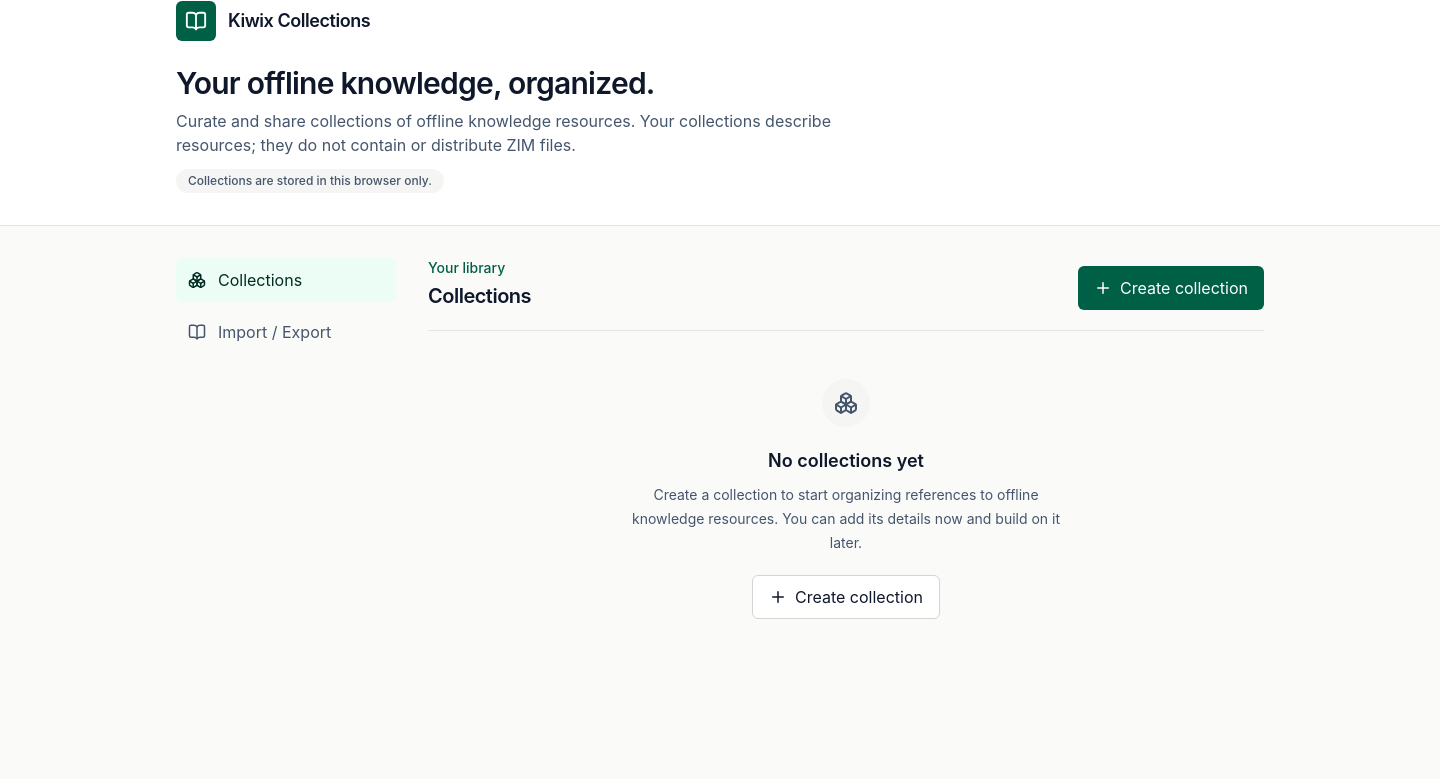
it: collections › opens a collection and adds a resource by hand
Click the button "Create collection" in the row of "Your library": (1171, 288) [1078, 266, 1264, 310]
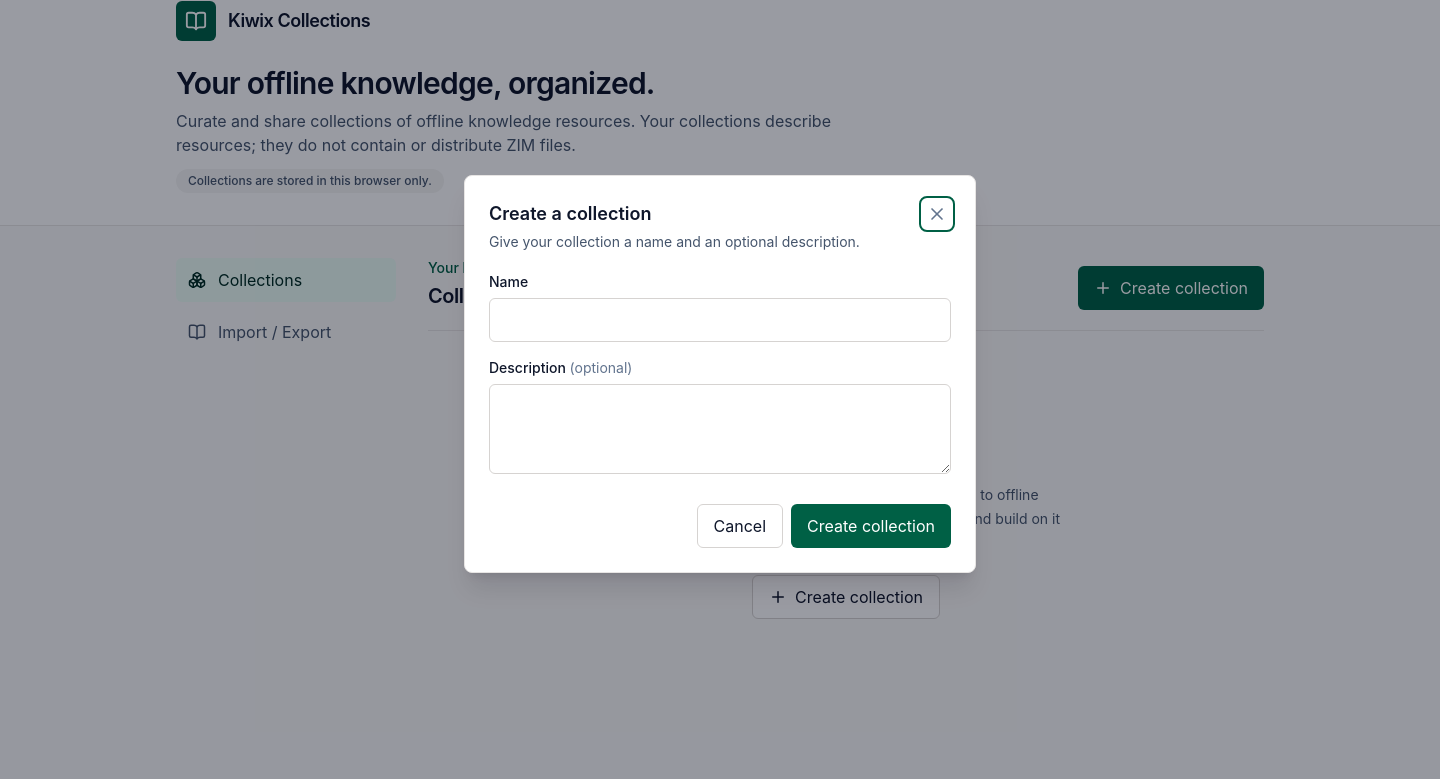
In the field labelled "Name": (720, 320) [489, 298, 951, 342], type "World history"
Click the button "Create collection": (871, 526) [791, 504, 951, 548]
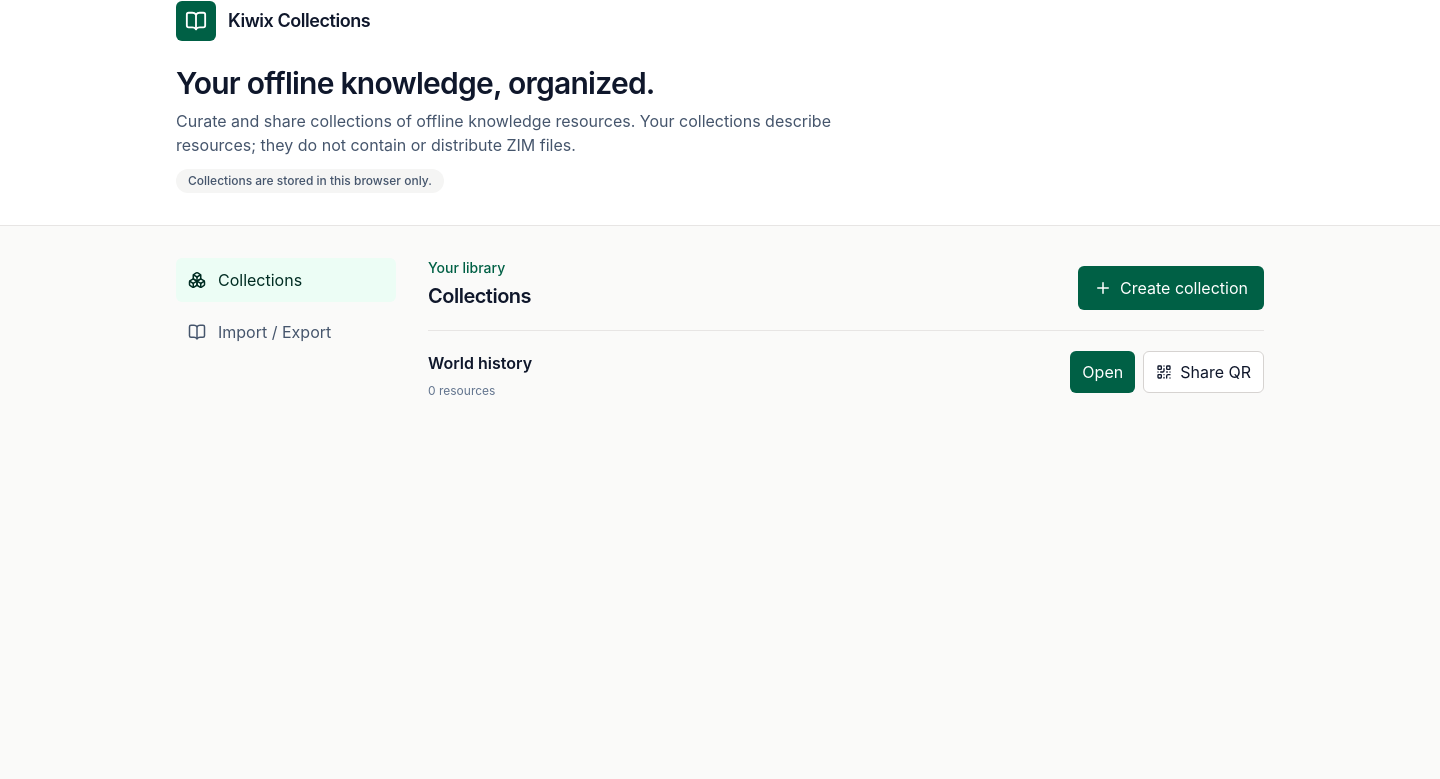
Expected: the heading "World history" is shown, [428, 351, 532, 375]
Click the button "Open": (1103, 372) [1070, 351, 1135, 393]
(page scrolled)
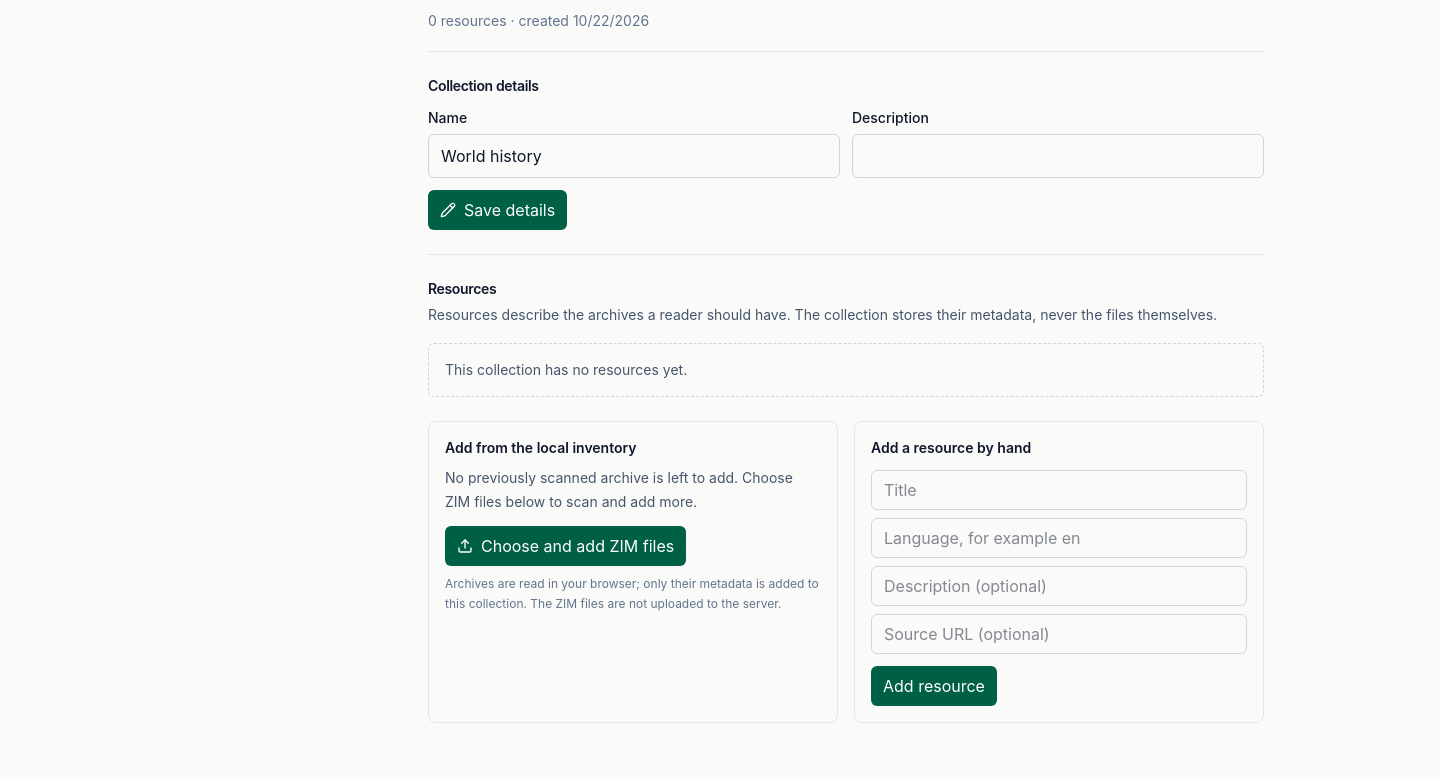
In the field named "Resource title": (1059, 490) [871, 470, 1247, 510], type "Wikipedia"
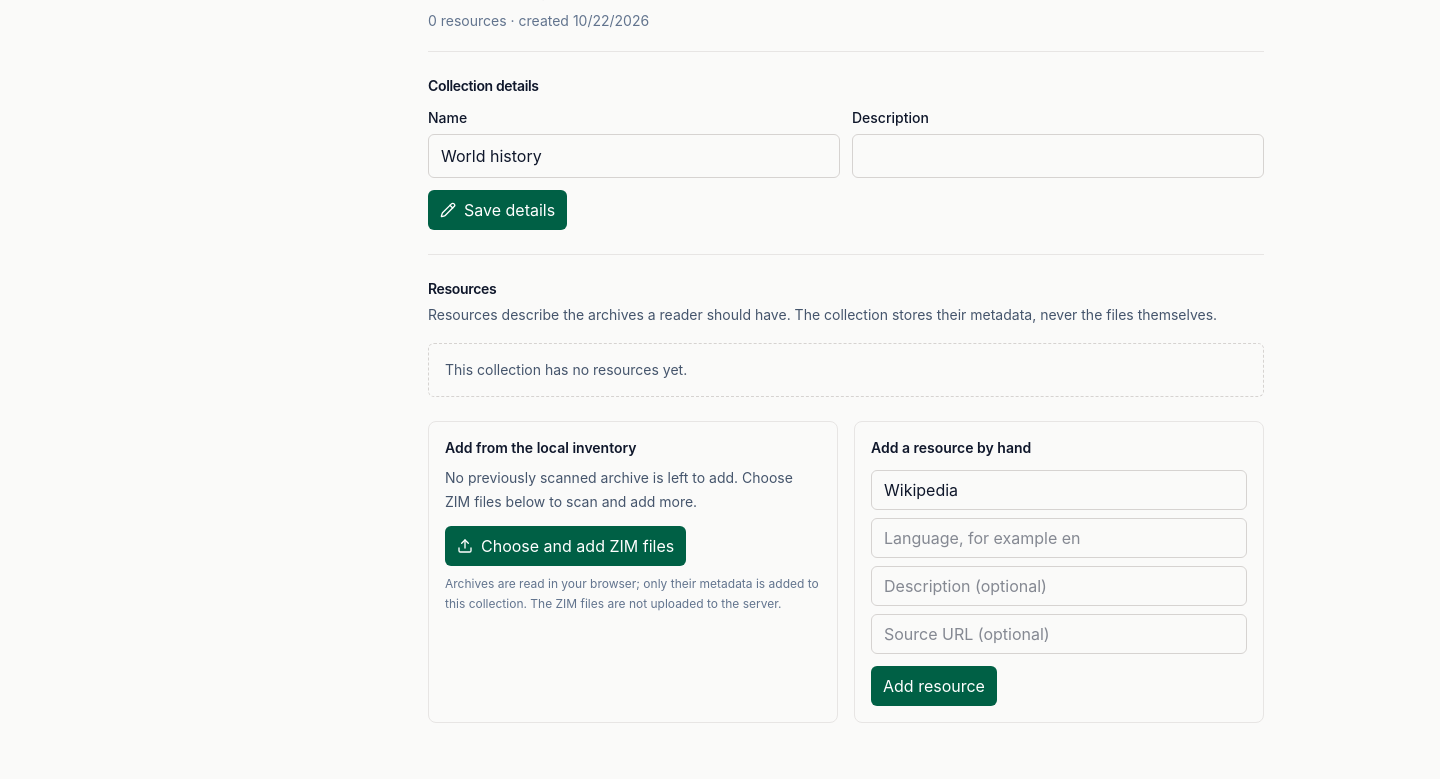
In the field named "Resource language": (1059, 538) [871, 518, 1247, 558], type "en"
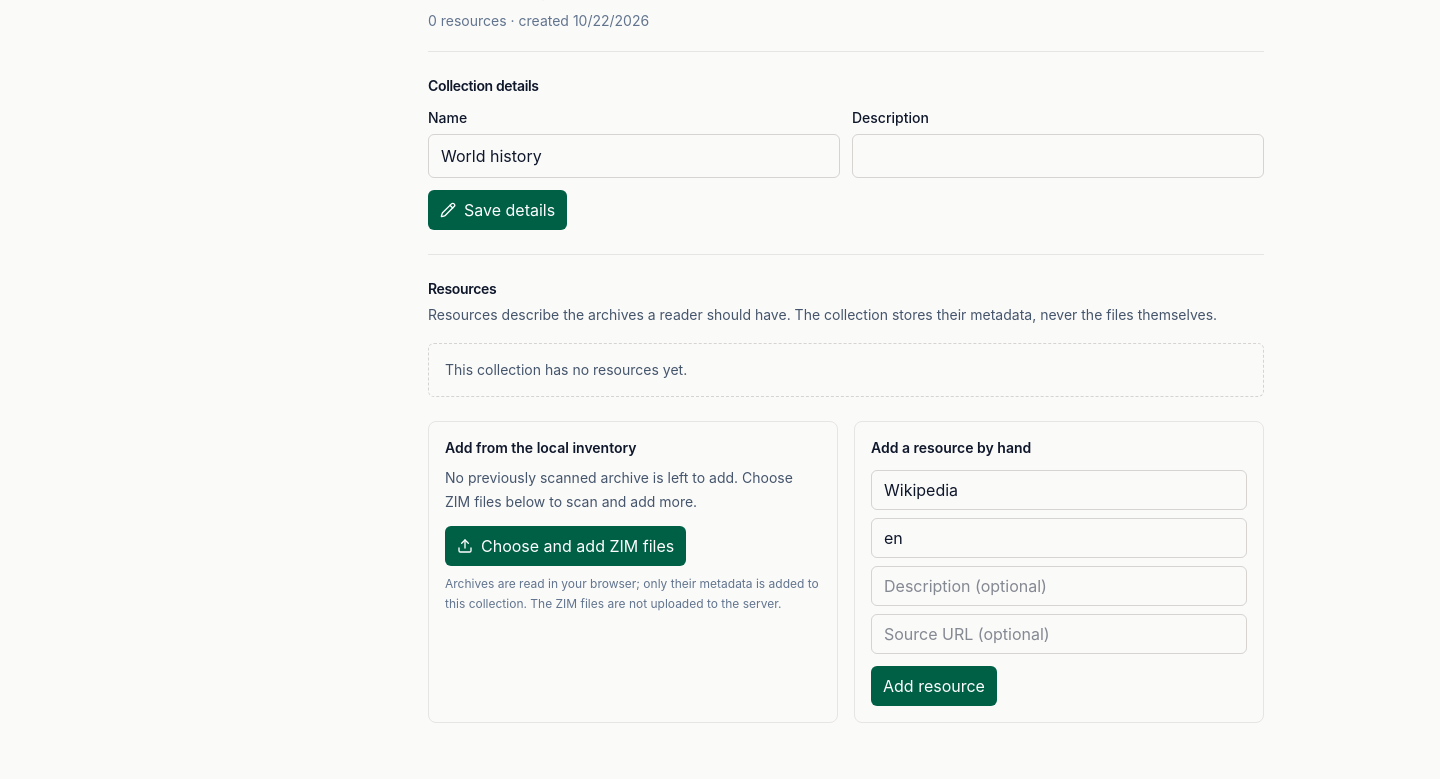
Click the button "Add resource": (934, 686) [871, 666, 997, 706]
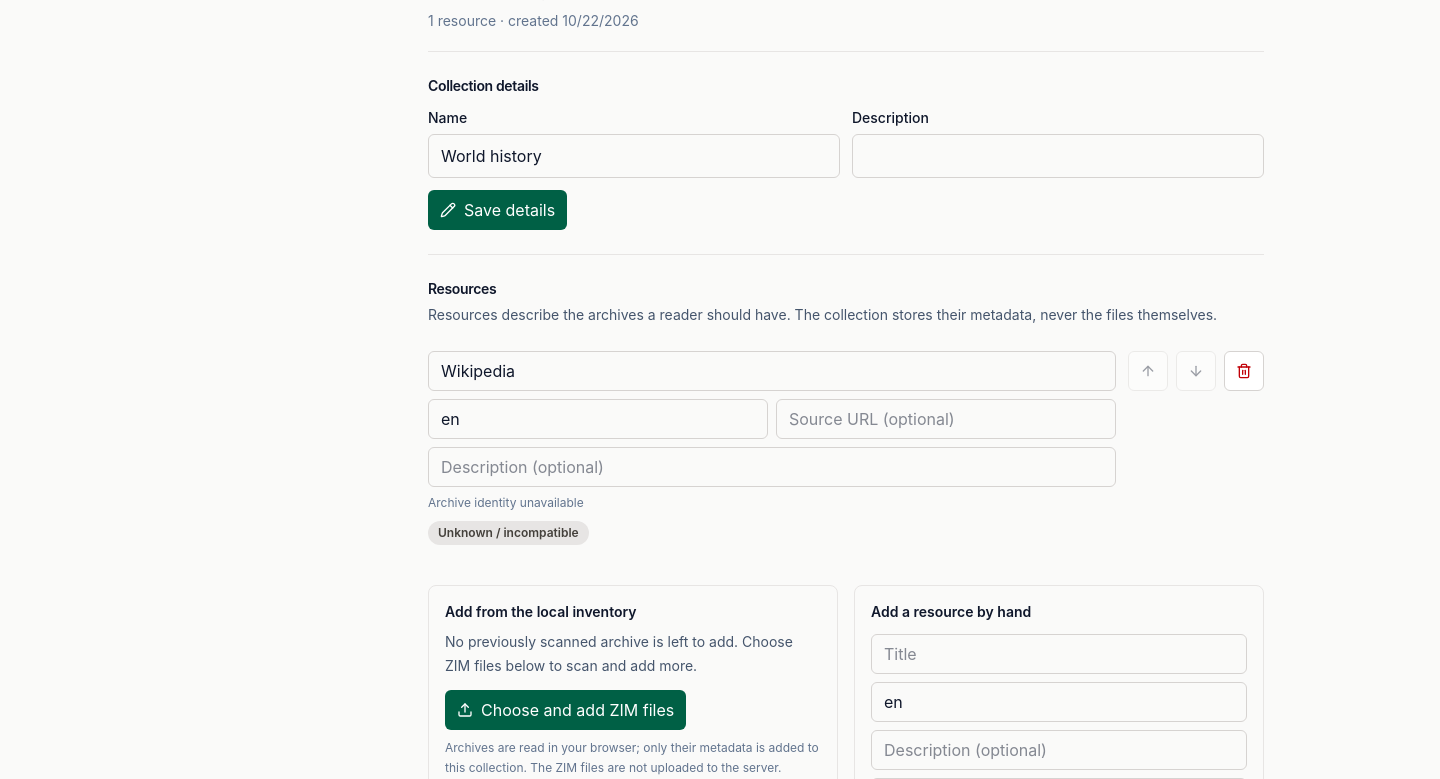
Expected: the 1st field showing "Wikipedia" is shown, [428, 351, 1116, 391]
Expected: the text "1 resource · created 10/22/2026" is shown, [428, 11, 639, 31]
